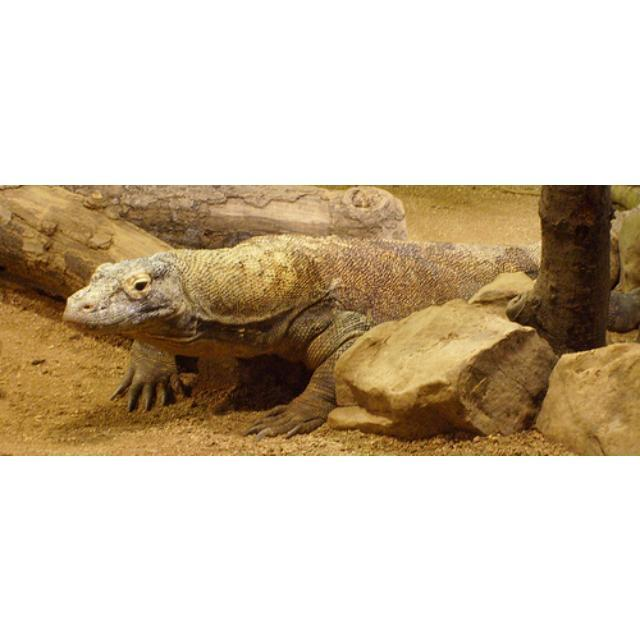KomodoDragon: (64, 228, 614, 434)
